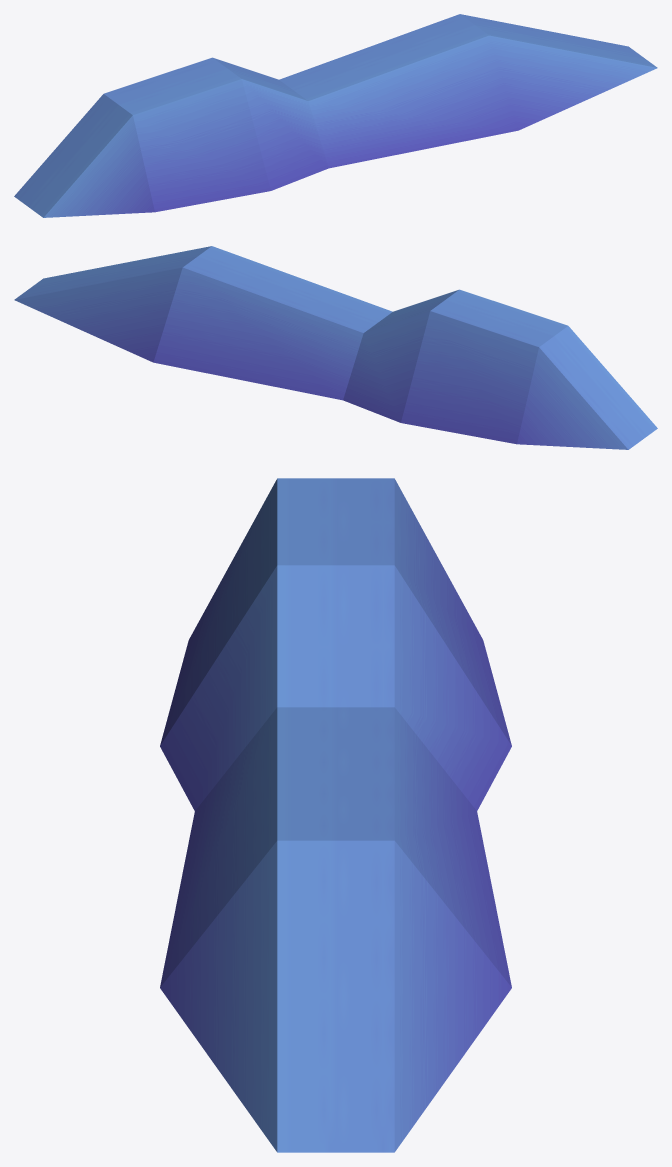
File: Hill.fbx
3 renders of one model, top to bottom at view 1: azimuth 30°, elevation 25°; view 2: azimuth 150°, elevation 25°; view 3: azimuth 270°, elevation 25°, orthographic. The views are drawn at different scales.
Visible parts, largest first — view 1: Hill; view 2: Hill; view 3: Hill.
Part boxes in pixels (<box>): Hill: <box>14,14,657,217</box>; Hill: <box>14,246,657,449</box>; Hill: <box>160,478,511,1152</box>.
Bounding box in the file's own units: 7 × 0.9848 × 1.74.
